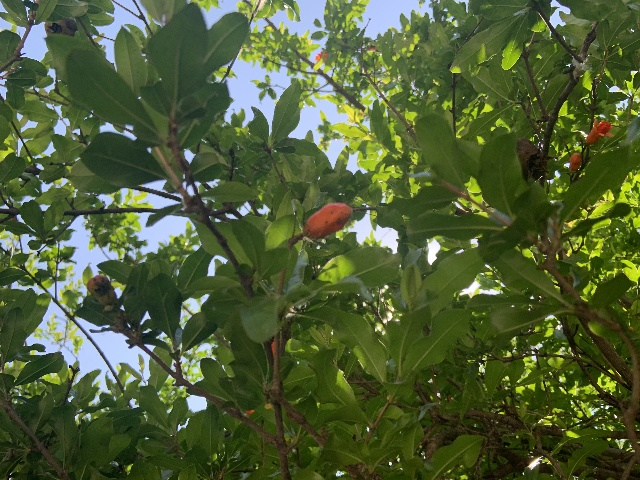bud: (304, 202, 351, 240), (86, 275, 116, 304), (569, 152, 581, 171)
flower: (586, 118, 613, 144), (315, 51, 328, 64)
